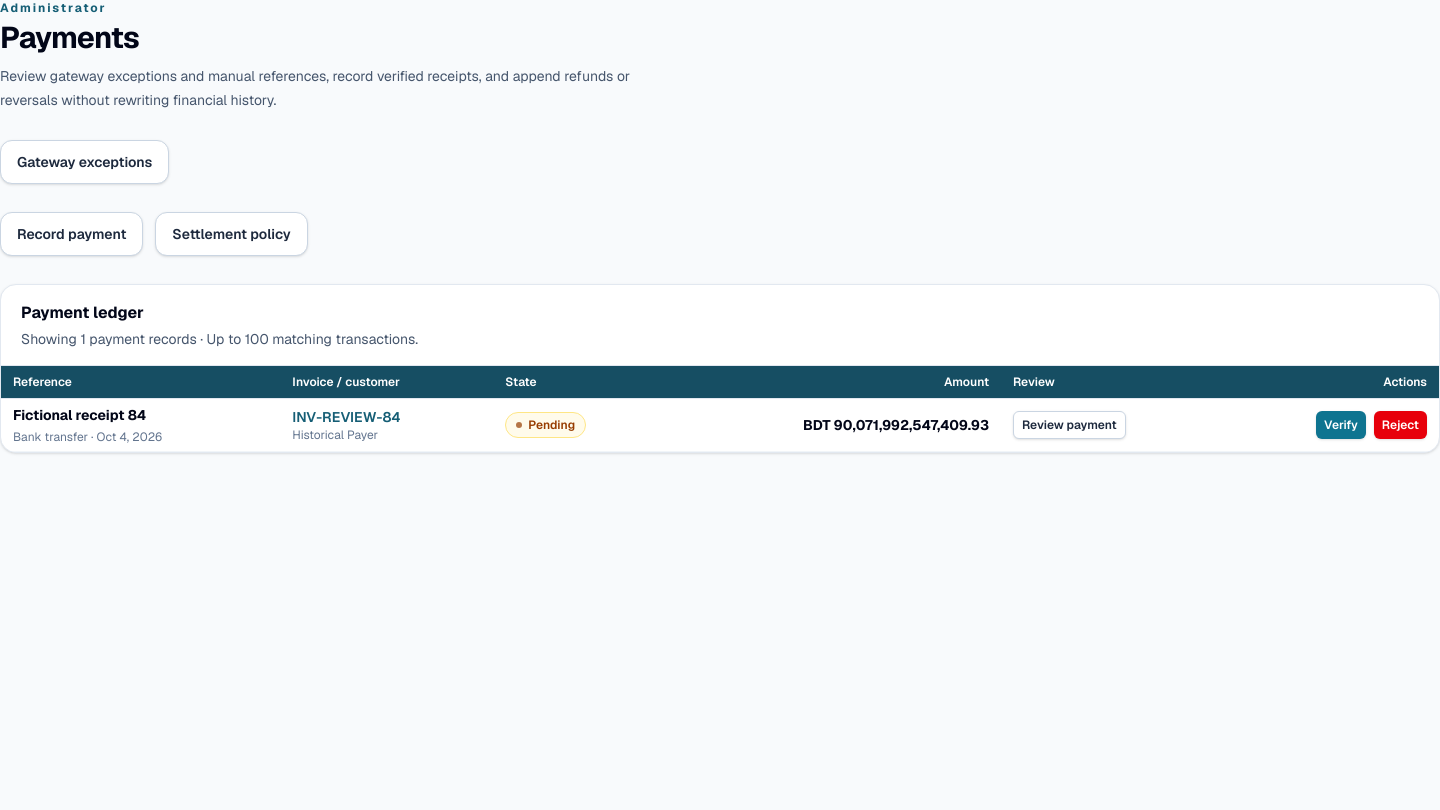
payment workspace review boundaries and existing mutations › preserves deliberate VERIFY body and clears stale review before a failed invoice refresh
This screenshot has width=1440, height=810.
Click the button "Review payment".
click(1069, 425)  # box [1013, 411, 1126, 439]
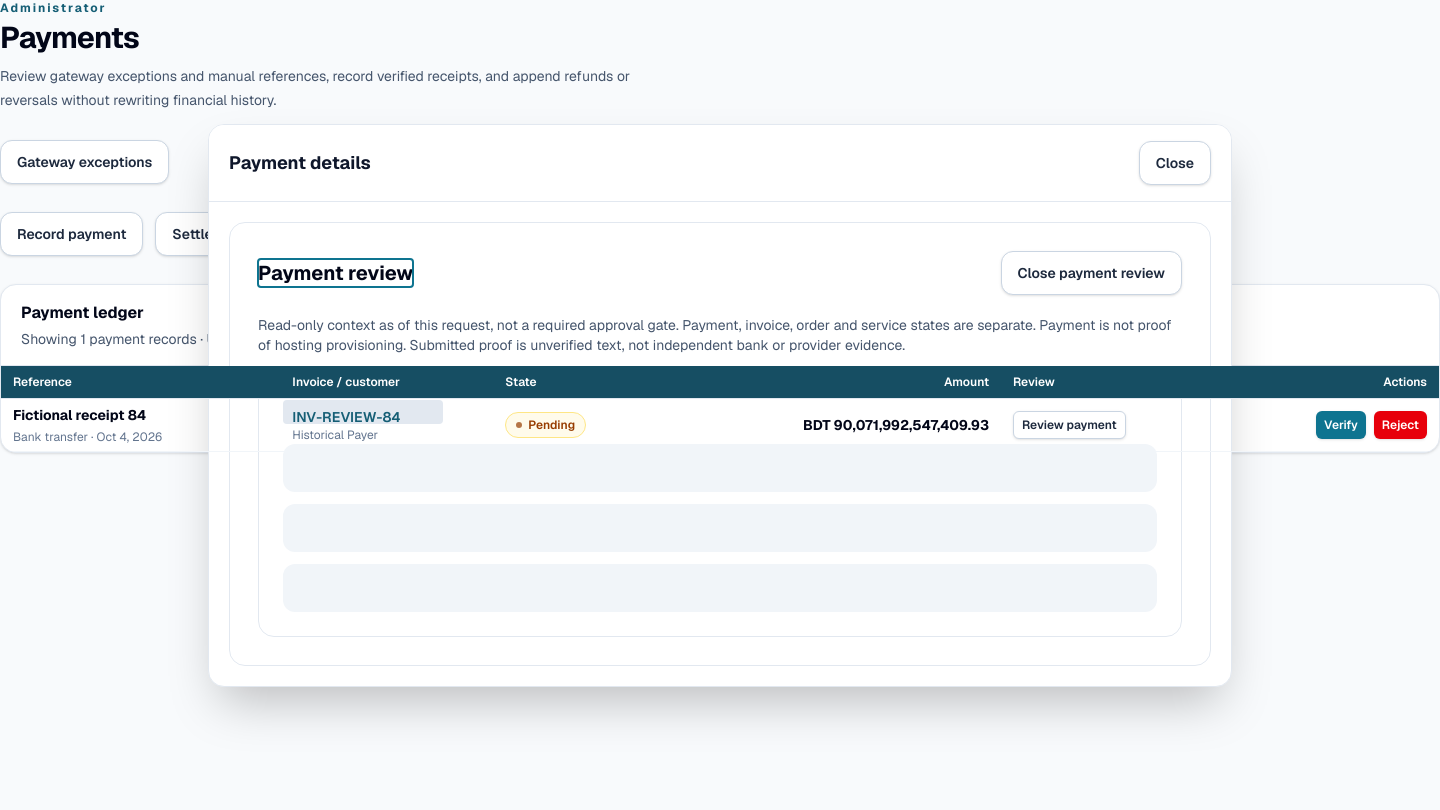
Click the button "Verify".
click(1341, 425)  # box [1316, 411, 1366, 439]
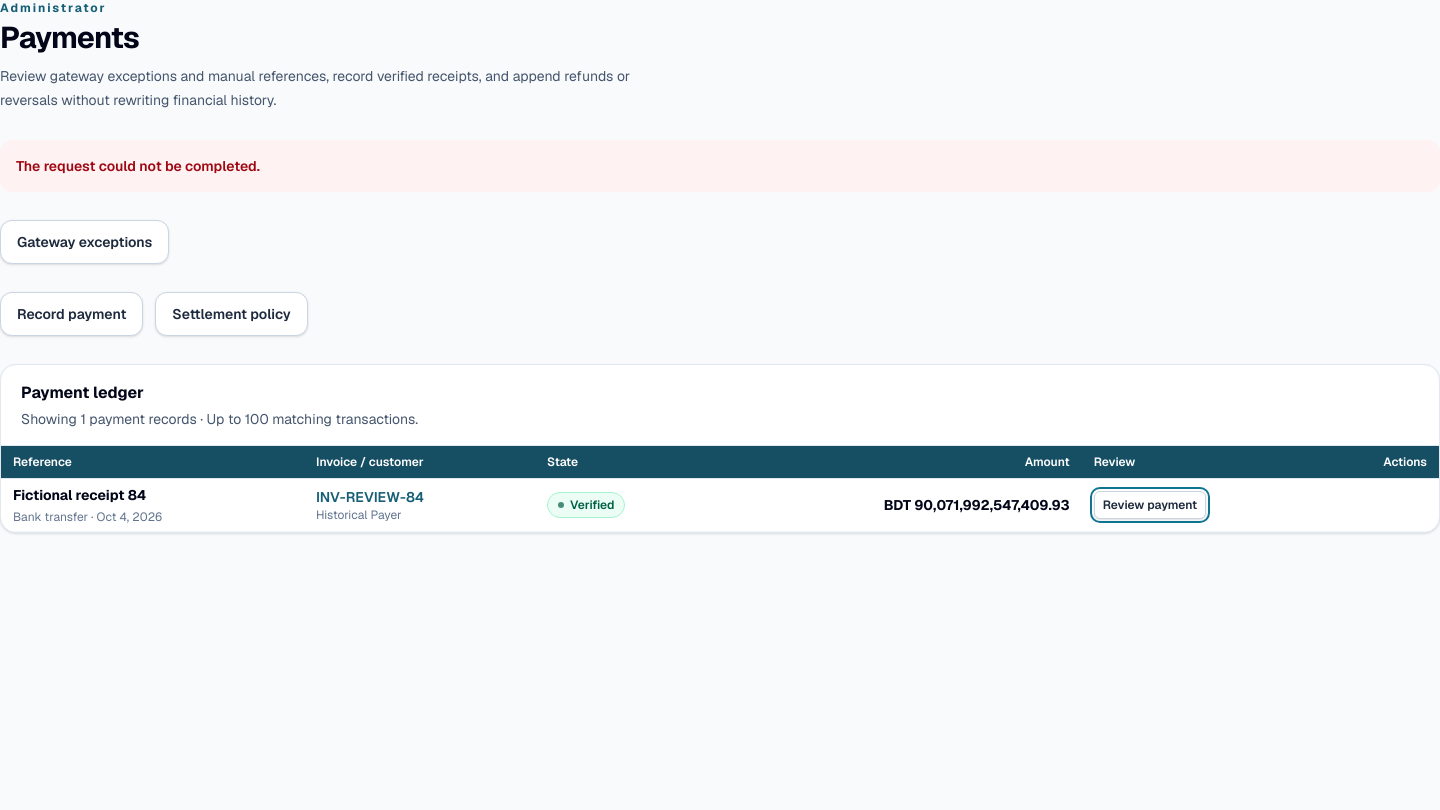
Now the heading "Payment review" is gone
